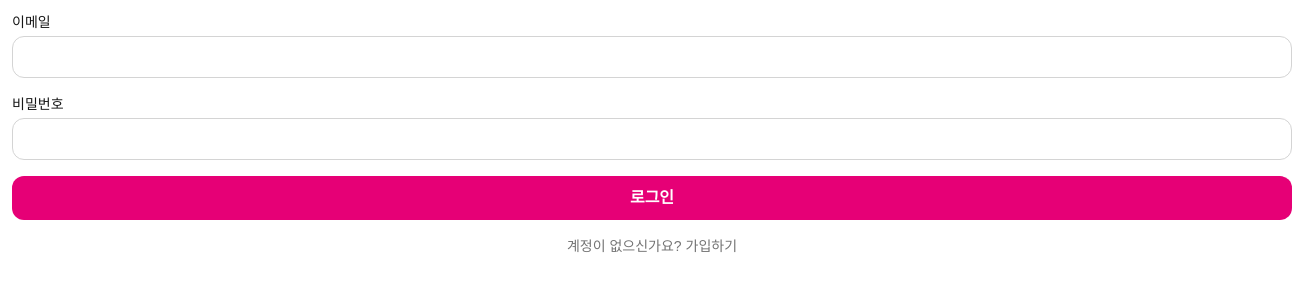
Test case: LoginForm › shows an error when sign in fails
The width and height of the screenshot is (1304, 306).
Type "t@example.com" into the field labelled "이메일".
click(652, 57); type("t@example.com")  # box x1=12 y1=36 x2=1292 y2=78
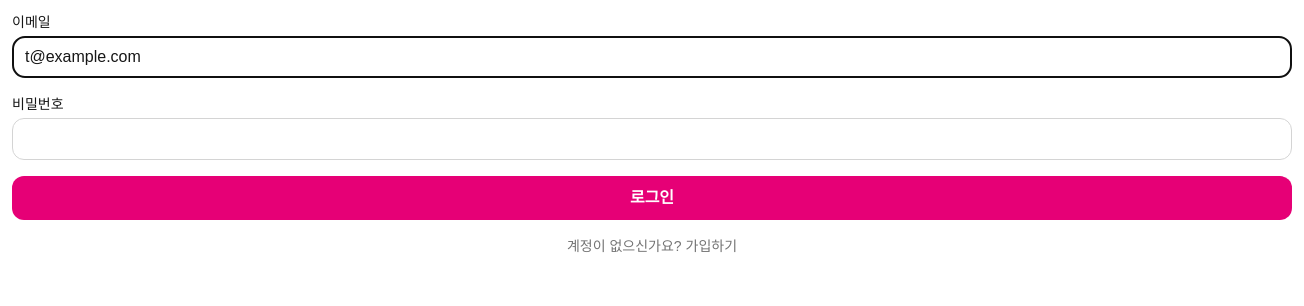
Type "wrongpw" into the password field labelled "비밀번호".
click(652, 139); type("wrongpw")  # box x1=12 y1=118 x2=1292 y2=160
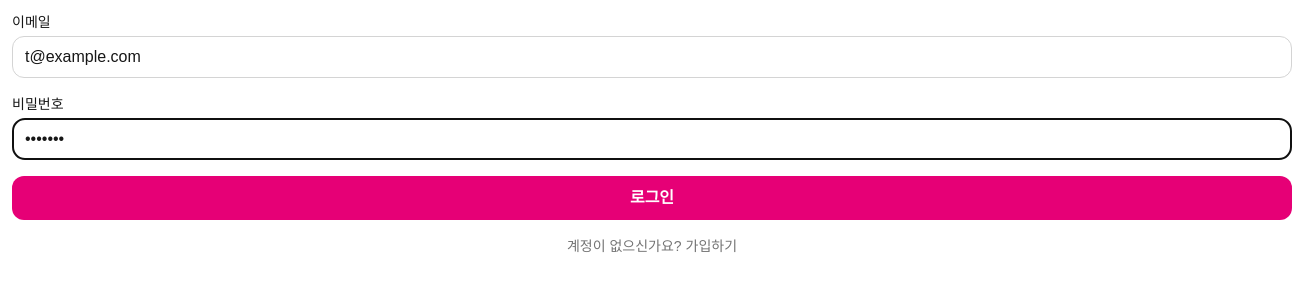
Click the button "로그인".
click(652, 198)  # box x1=12 y1=176 x2=1292 y2=220
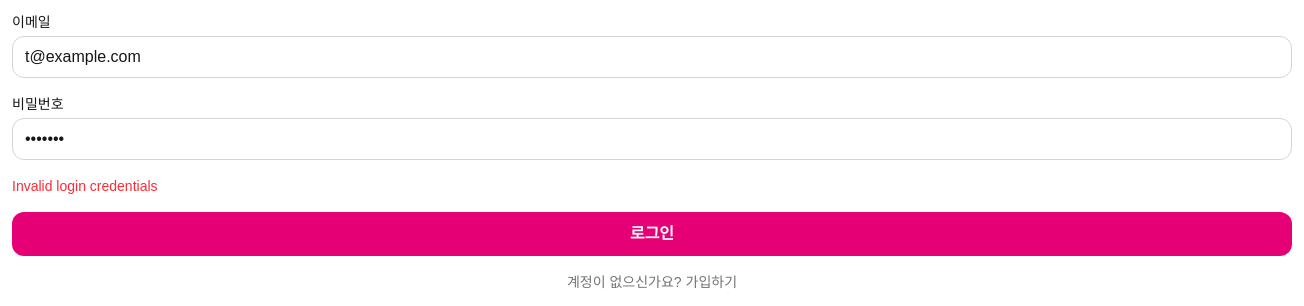
Expected: the message reads "Invalid login credentials", x1=12 y1=178 x2=158 y2=194
